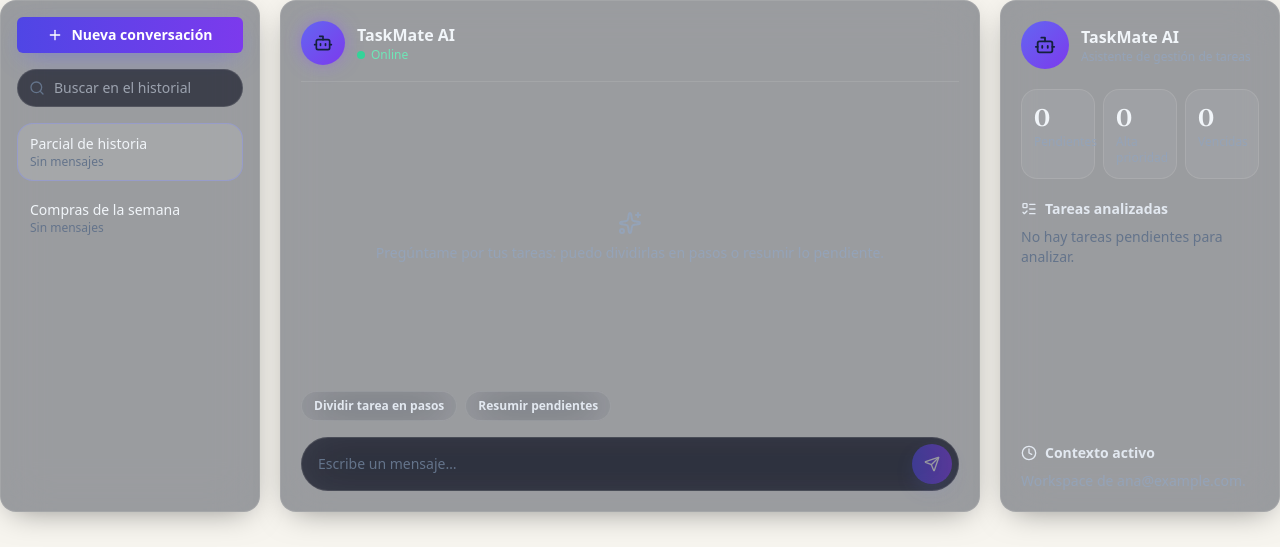
Chat con IA › filtra el historial con la búsqueda
The width and height of the screenshot is (1280, 547).
In the search field named "Buscar conversaciones": (130, 88) [17, 69, 243, 107], type "compras"
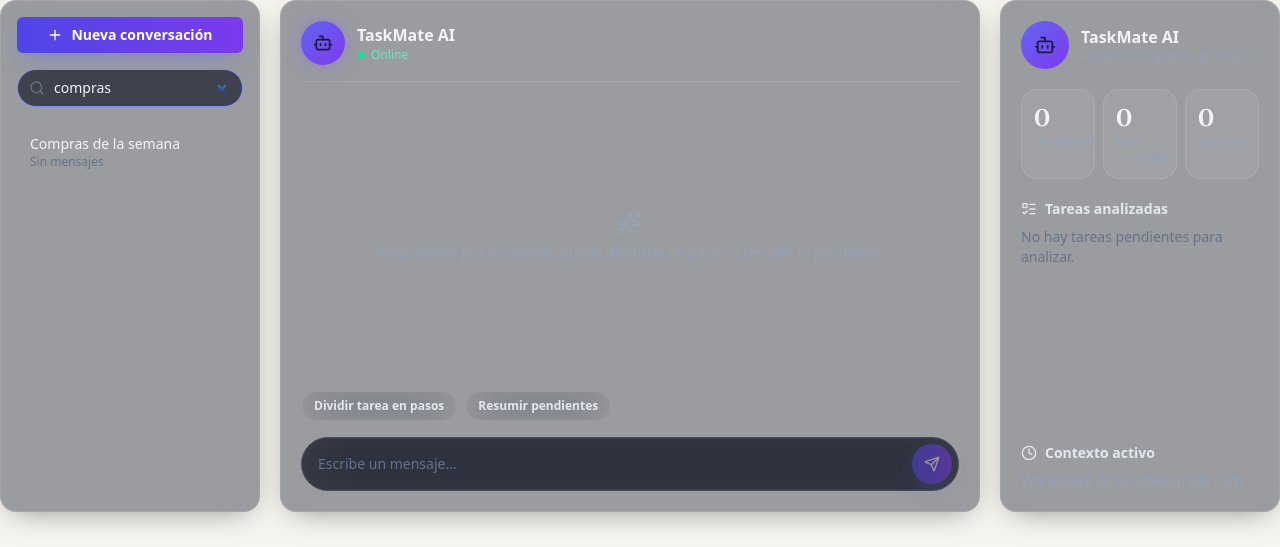
Expected: the button "Compras de la semana Sin mensajes" is shown, [17, 123, 243, 181]
Expected: the button "Parcial de historia" is gone
